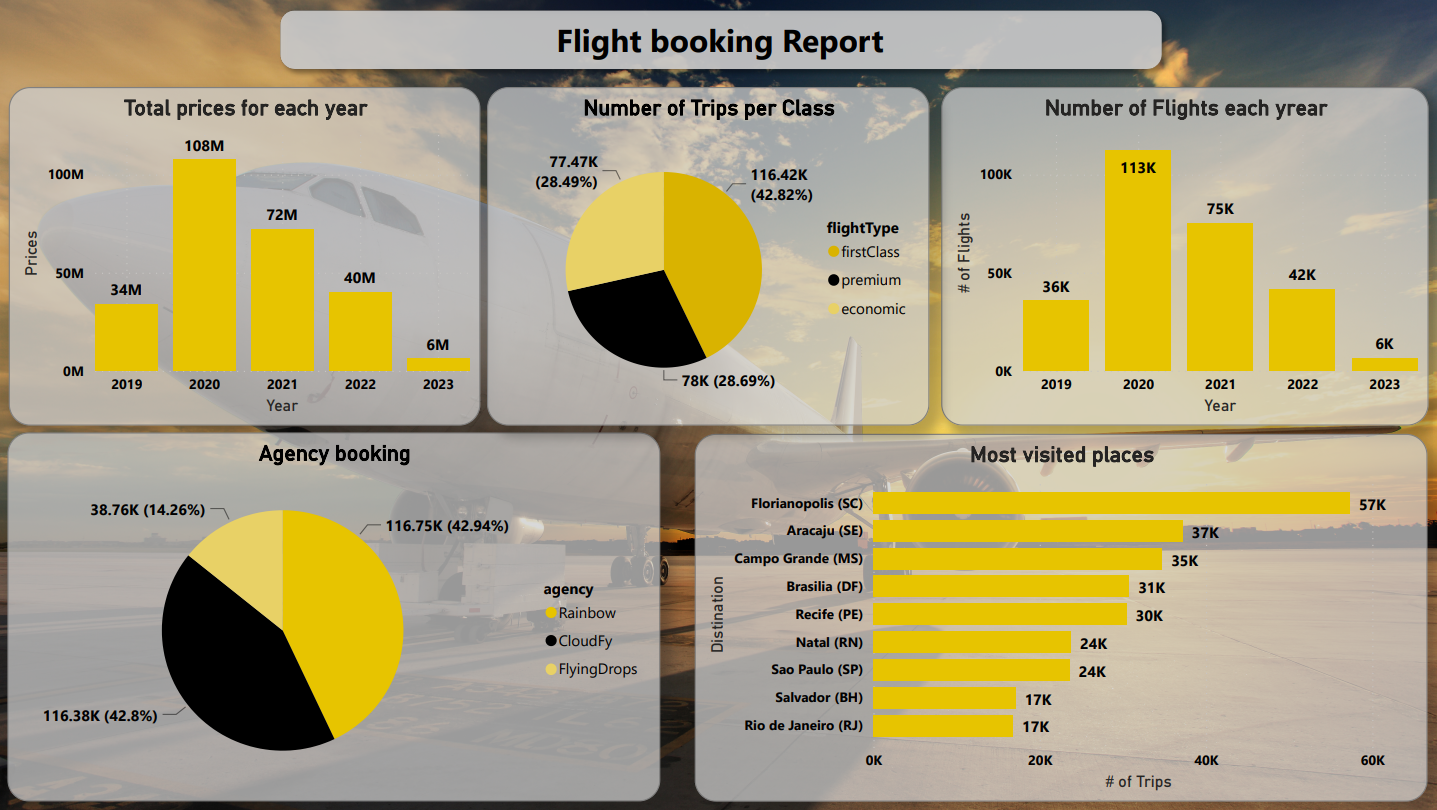

The dashboard page shown, as its layout file describes it:
{"tool":"powerbi","page":{"name":"Page 1","canvas":[1280,720],"ordinal":0},"visuals":[{"type":"columnChart","title":"Total prices for each year","fields":{"Category":["flights.date.Variation.Date Hierarchy.Year"],"Y":["Sum(flights.price)"]},"box":[0,78.4,430.6,301.5],"z":0},{"type":"textbox","box":[314.5,0,541.1,78.3],"z":1000},{"type":"columnChart","title":"Number of Flights each yrear","fields":{"Category":["flights.date.Variation.Date Hierarchy.Year"],"Y":["CountNonNull(flights.travelCode)"]},"box":[843,78.4,433,301.5],"z":2000},{"type":"pieChart","title":"Agency booking","fields":{"Category":["flights.agency"],"Y":["CountNonNull(flights.travelCode)"]},"box":[0,380.4,585.1,339.2],"z":3000},{"type":"clusteredBarChart","title":"Most visited places","fields":{"Category":["flights.to"],"Y":["CountNonNull(flights.travelCode)"]},"box":[640,380,636,339],"z":4000},{"type":"pieChart","title":"Number of Trips per Class","fields":{"Category":["flights.flightType"],"Y":["CountNonNull(flights.travelCode)"]},"box":[430.6,78.4,412.5,301.5],"z":5000}]}

Visuals, with their boxes in screenshot pixels (x1, y1, x2, y2), scaled from the page's 1280x720 canvas onto the 1437x810 screenshot:
"Total prices for each year" columnChart: detection(0, 88, 483, 427)
textbox: detection(353, 0, 961, 88)
"Number of Flights each yrear" columnChart: detection(946, 88, 1433, 427)
"Agency booking" pieChart: detection(0, 428, 657, 809)
"Most visited places" clusteredBarChart: detection(718, 428, 1433, 809)
"Number of Trips per Class" pieChart: detection(483, 88, 947, 427)
